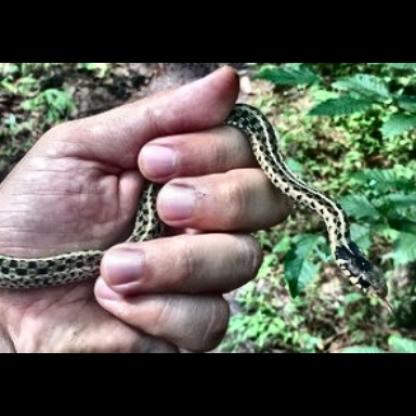Snake: (226, 110, 390, 297), (1, 190, 169, 298)
